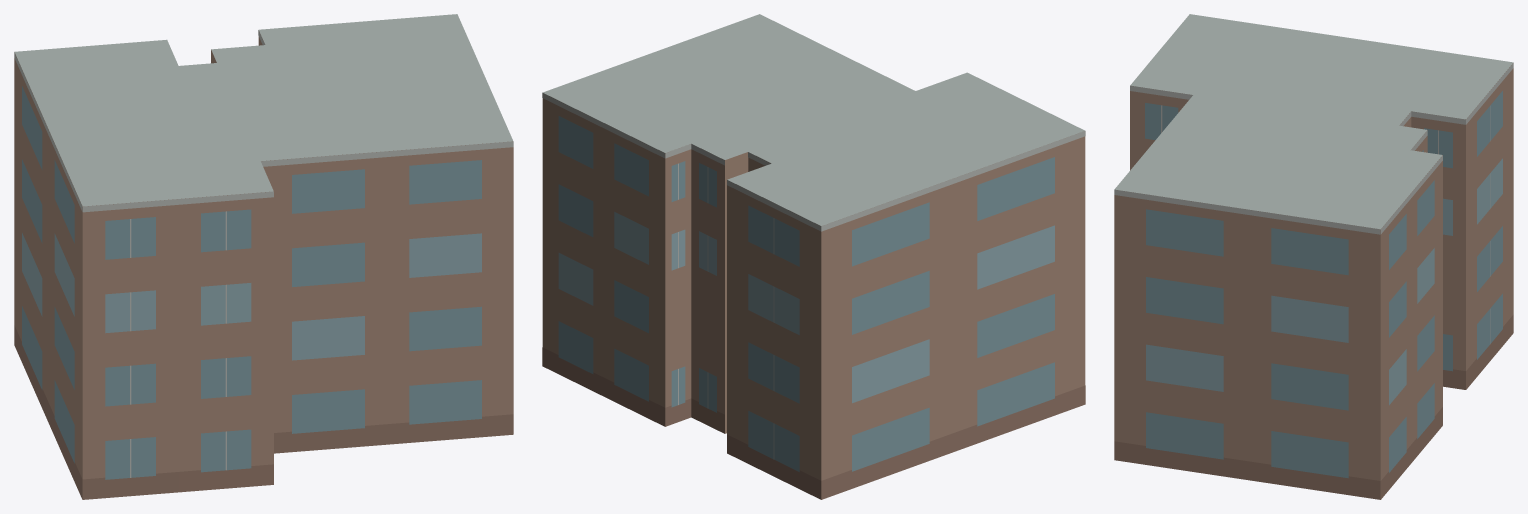
File: residential-437f1fca-88ed-4ffc-bbfb-c282f8ad019d.glb
The picture shows the model from 3 angles, left to right: view 1: azimuth 30°, elevation 25°; view 2: azimuth 150°, elevation 25°; view 3: azimuth 270°, elevation 25°; orthographic projection. The views are drawn at different scales.
Parts seen in each view (by area): view 1: residential-437f1fca-88ed-4ffc-bbfb-c282f8ad019d.tmp; view 2: residential-437f1fca-88ed-4ffc-bbfb-c282f8ad019d.tmp; view 3: residential-437f1fca-88ed-4ffc-bbfb-c282f8ad019d.tmp.
Part boxes in pixels (box(x1,y1,x2,y2)): residential-437f1fca-88ed-4ffc-bbfb-c282f8ad019d.tmp: box(14, 14, 513, 499); residential-437f1fca-88ed-4ffc-bbfb-c282f8ad019d.tmp: box(542, 14, 1085, 499); residential-437f1fca-88ed-4ffc-bbfb-c282f8ad019d.tmp: box(1114, 14, 1513, 499).
Bounding box in the file's own units: 20.83 × 12.2 × 16.33.
